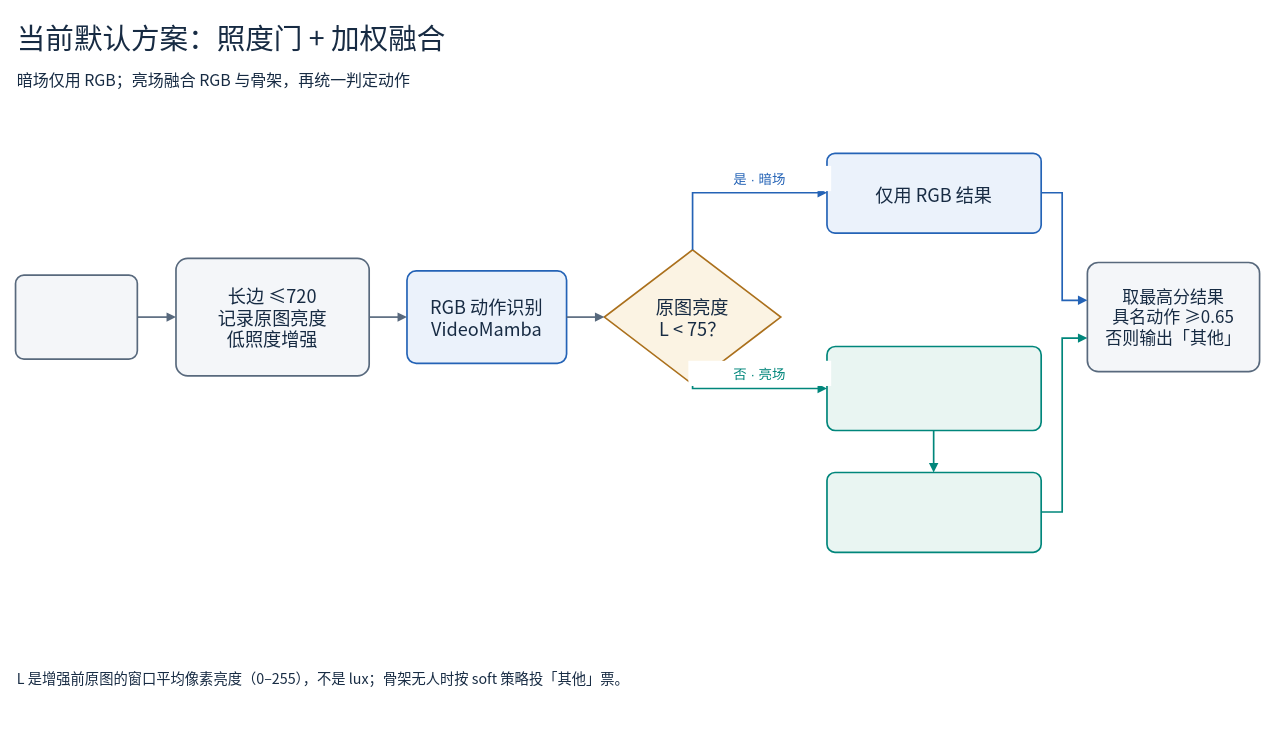
Some shapes in this 1274 by 732 pixel diagram are drawn without their labels. The centre of each missing label's shape, as x and y in pixels:
"加权融合 0.7 RGB + 0.3 骨架" goes at [934,512].
"视频输入" goes at [76,317].
"骨架动作识别 RTMO-s + ST-GCN" goes at [934,388].
